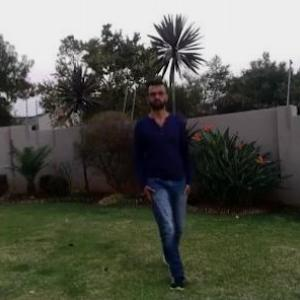follow: (141, 85, 193, 264)
